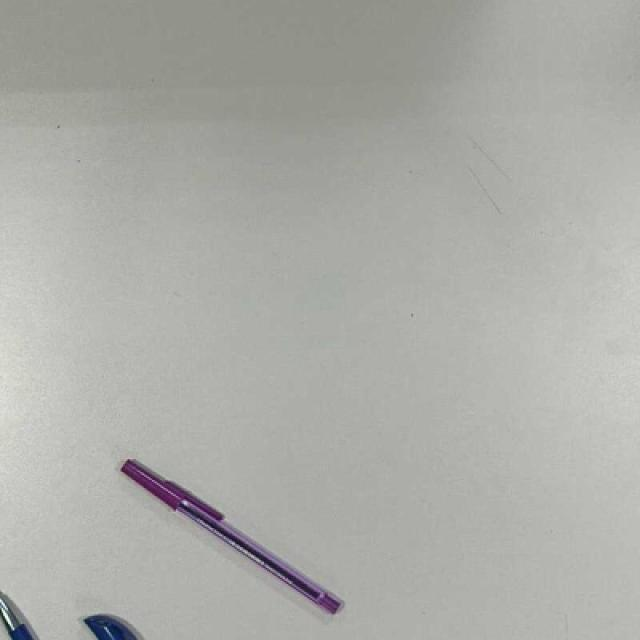caneta: (119, 455, 346, 616)
